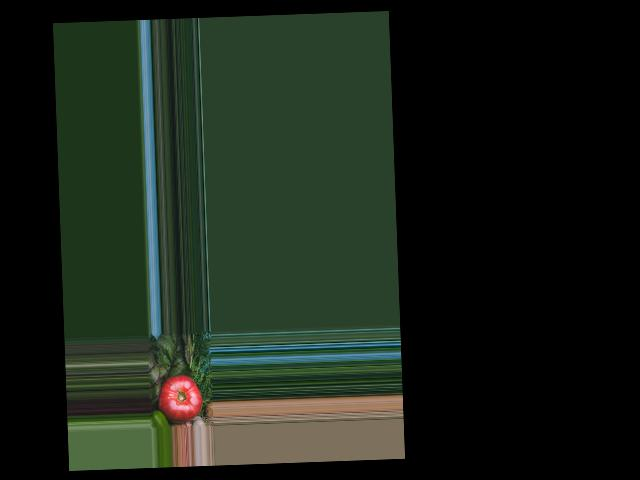tomato: (156, 375, 203, 424)
